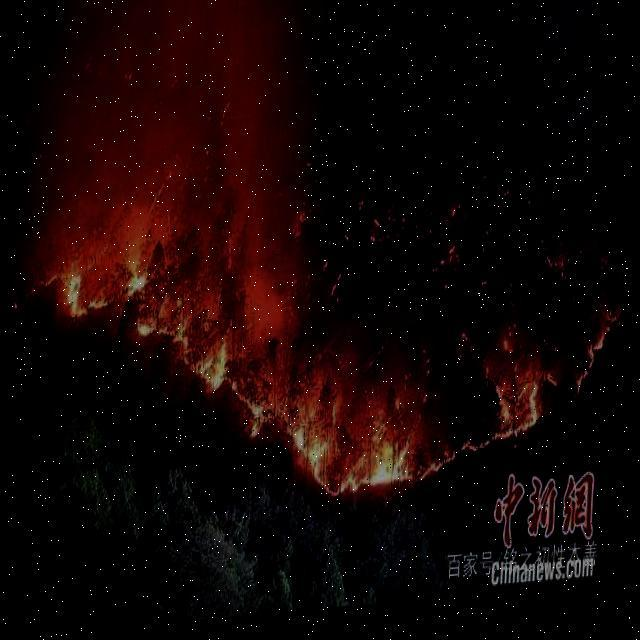Fire: (25, 126, 621, 528)
